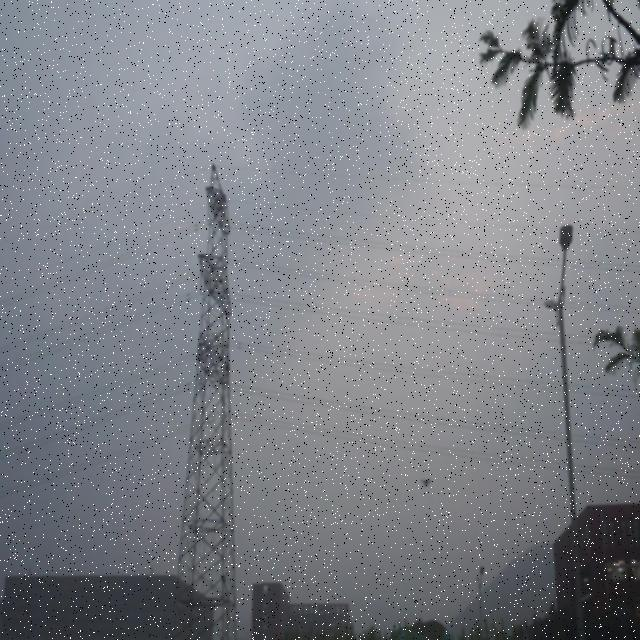UAV: (420, 478, 432, 488)
